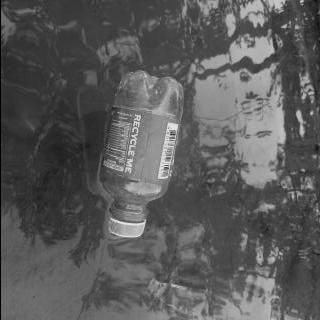bottle: (98, 69, 185, 238)
